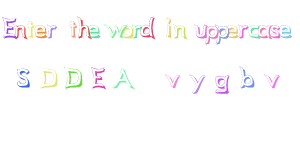A: (112, 66, 137, 89)
D: (63, 66, 84, 90), (38, 66, 59, 89)
E: (89, 65, 108, 91), (1, 14, 17, 39)
S: (14, 63, 32, 90)
a: (259, 21, 271, 41)
b: (237, 64, 256, 89)
c: (249, 21, 259, 41)
d: (139, 14, 157, 39)
e: (280, 22, 294, 41), (87, 23, 101, 39), (226, 23, 238, 39), (34, 24, 46, 38)
g: (212, 74, 231, 96)
h: (77, 13, 90, 39)
i: (164, 16, 173, 38)
n: (13, 23, 27, 40), (173, 24, 188, 39)
o: (119, 23, 133, 39)
p: (217, 24, 229, 48), (205, 24, 217, 46)
r: (47, 22, 58, 39), (131, 23, 143, 38), (238, 22, 248, 39)
s: (270, 21, 280, 40)
t: (66, 19, 77, 39), (26, 18, 35, 39)
u: (193, 22, 207, 39)
v: (163, 70, 180, 88), (262, 71, 280, 88)
w: (103, 21, 126, 39)
y: (188, 73, 206, 94)
